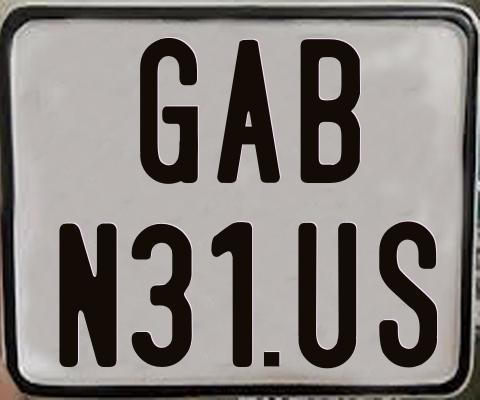1: (208, 221, 252, 372)
3: (128, 223, 190, 372)
A: (214, 40, 280, 188)
B: (297, 37, 357, 183)
G: (137, 37, 198, 186)
N: (57, 221, 116, 369)
S: (376, 220, 436, 372)
U: (298, 222, 357, 369)
